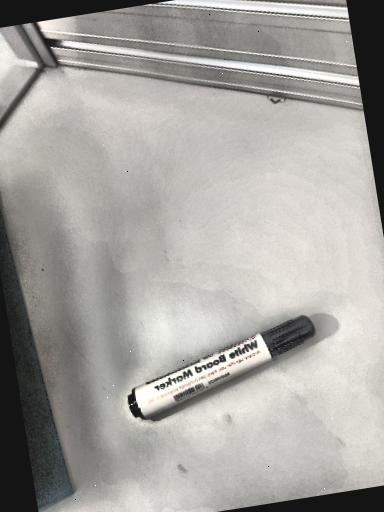marcador negro: (128, 315, 315, 418)
